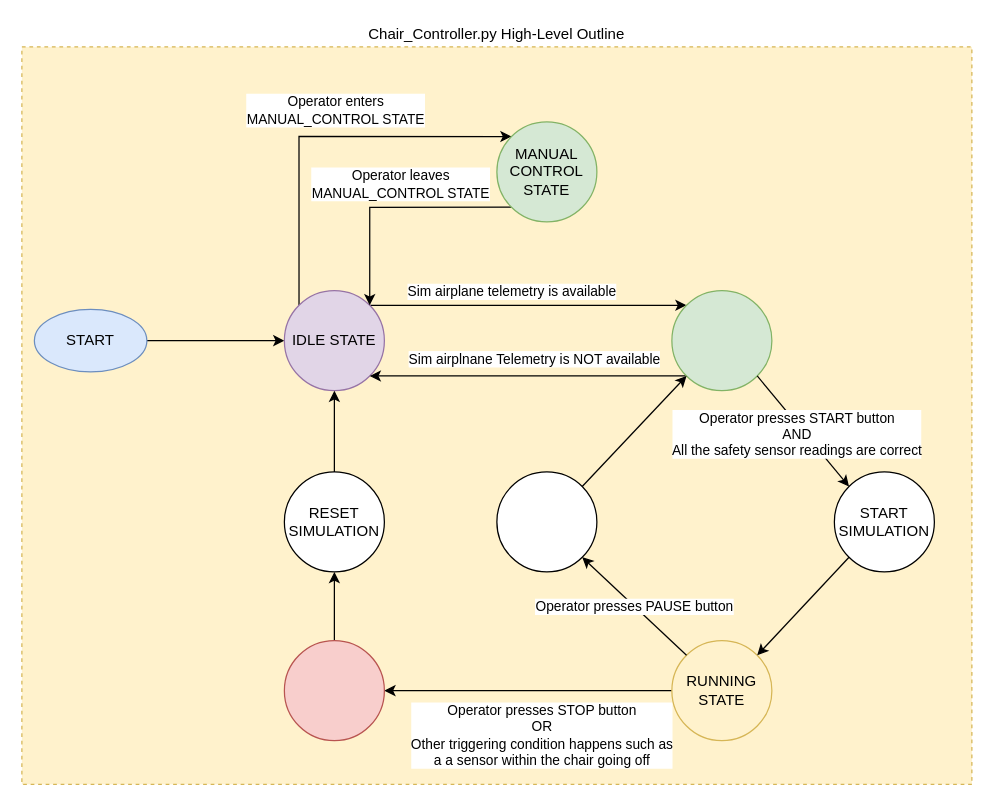
The diagram is 994 pixels wide and 806 high, and some of its shapes have lost their labels. Here are the shapes that lost their labels. From the top down, the box of each, then its label:
(671, 289, 772, 391): READY STATE
(496, 471, 597, 572): PAUSE SIMULATION
(283, 639, 384, 741): STOP STATE
